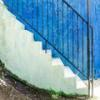stairs: (1, 0, 92, 95)
